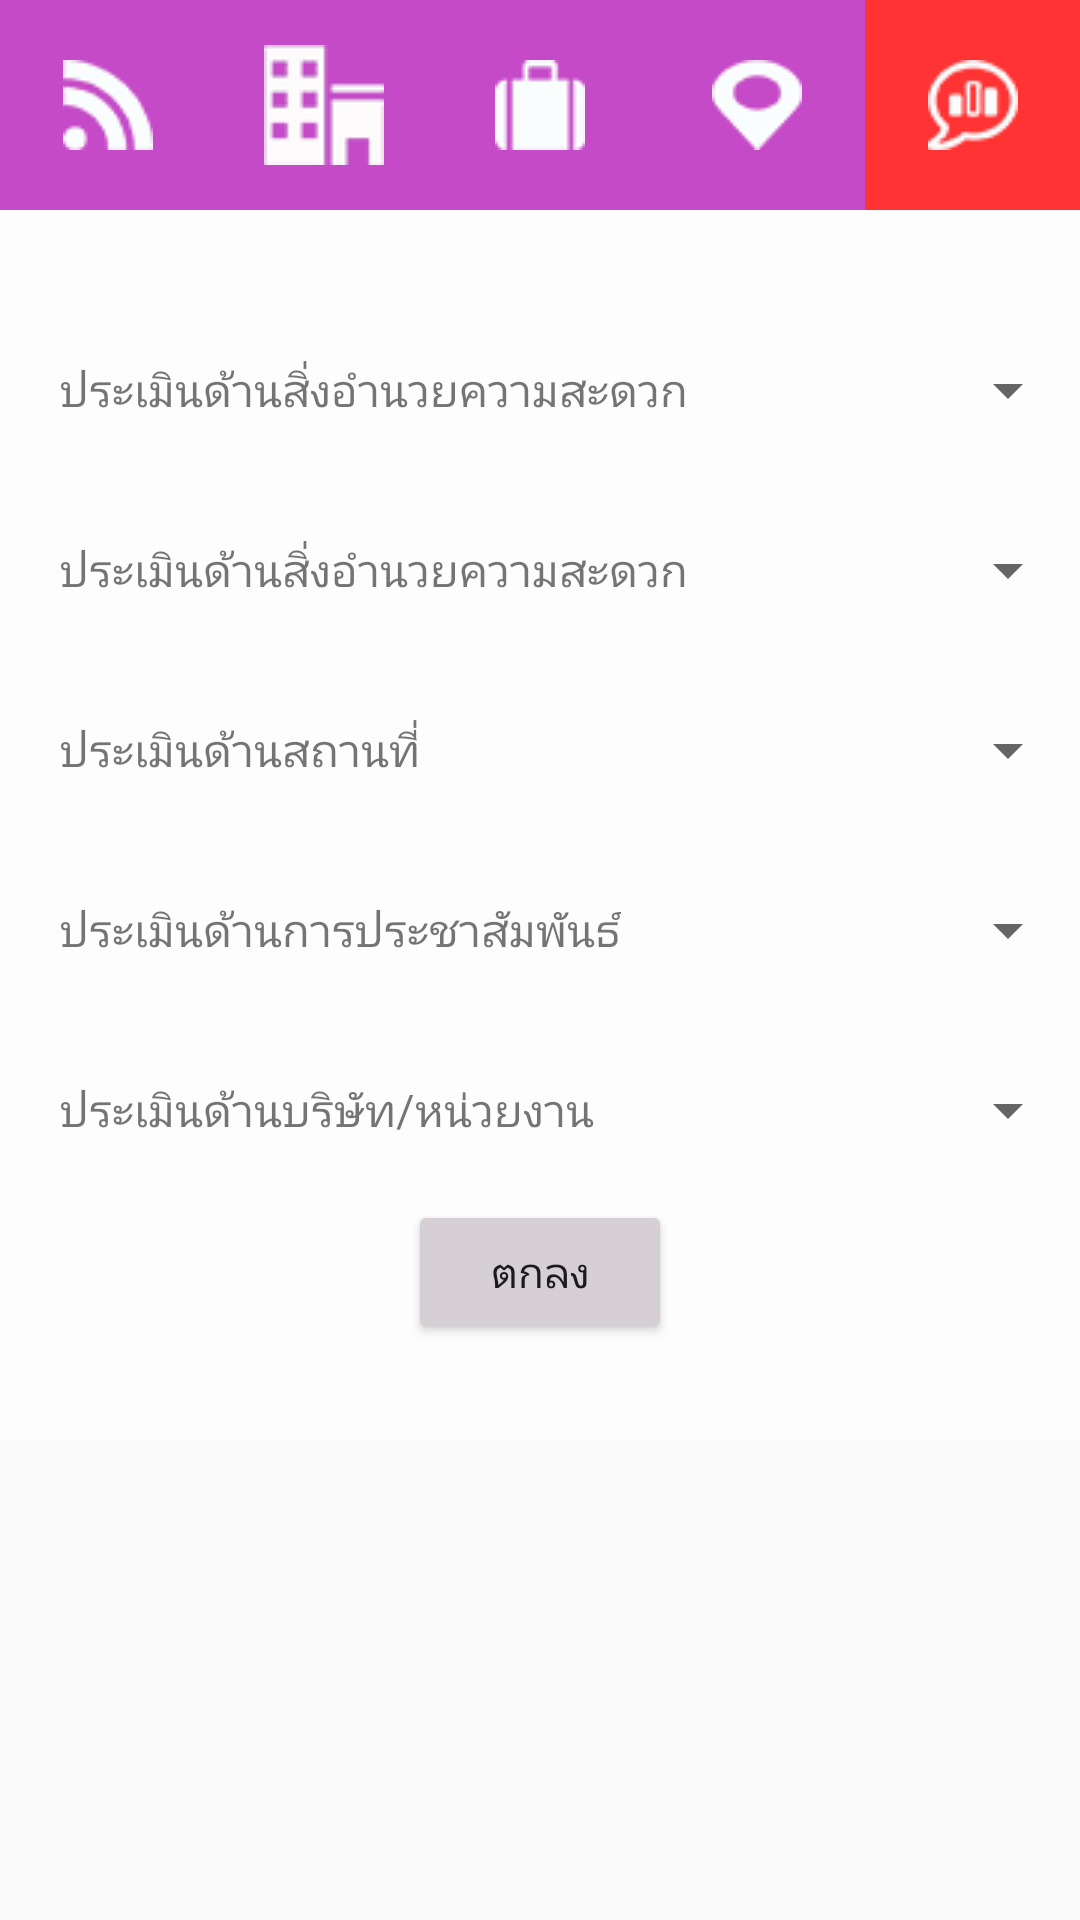

Icons on this 1080*1920 Android screen, each with the point to tap as [x,y]:
company: [324,105]
feed: [108,105]
job: [540,105]
poll: [972,105]
